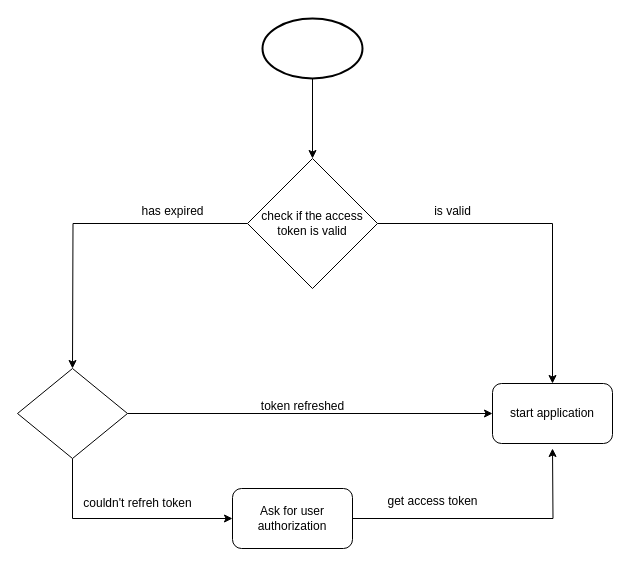
The diagram is 630 pixels wide and 566 high, and some of its shapes have lost their labels. Here are the shapes that lost their labels. From the top down, the centre of each, then its label:
point 312,48: START
point 72,413: refresh access token
